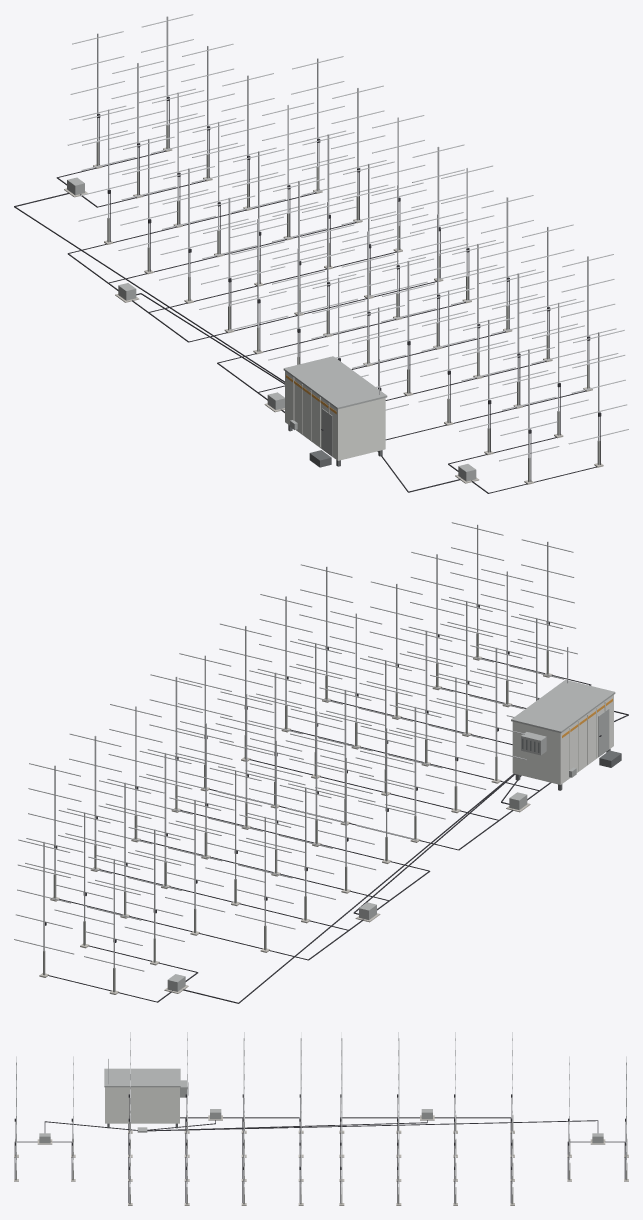
Rendered from radar-cupri.fbx.
The picture shows the model from 3 angles, top to bottom: view 1: azimuth 30°, elevation 25°; view 2: azimuth 150°, elevation 25°; view 3: azimuth 270°, elevation 25°; orthographic projection. The views are drawn at different scales.
Visible parts, largest first — view 1: RadarCupri; view 2: RadarCupri; view 3: RadarCupri.
Boxes of the visible parts, x1,y1,x2,y2 form: RadarCupri: [14, 14, 628, 493]; RadarCupri: [14, 522, 628, 1003]; RadarCupri: [14, 1032, 628, 1205].
Bounding box in the file's own units: 15.6 × 6.4 × 37.8.
Materials: 1 (1 with a texture image).
